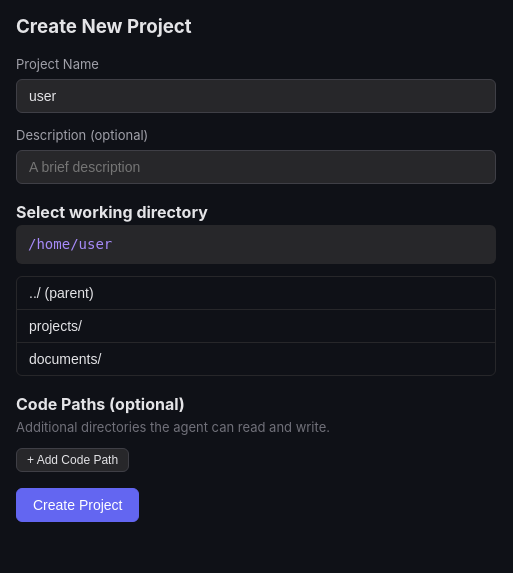
it: ProjectWizard › shows error when create fails
The width and height of the screenshot is (513, 573).
Click the button "Create Project" at (78, 505), box [16,488,140,522]
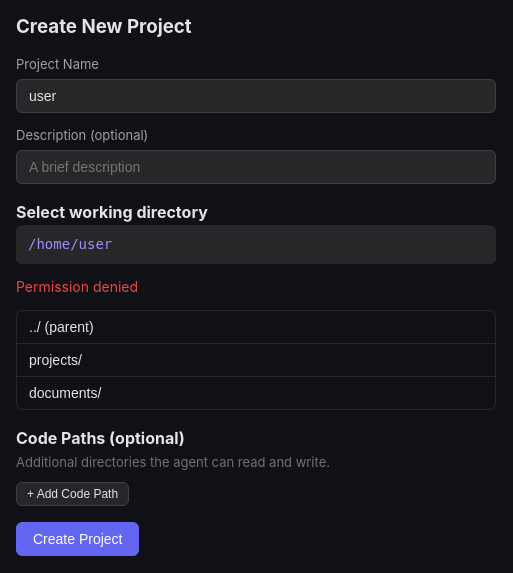
expect the text "Permission denied" is shown: met, box [16,278,138,294]
